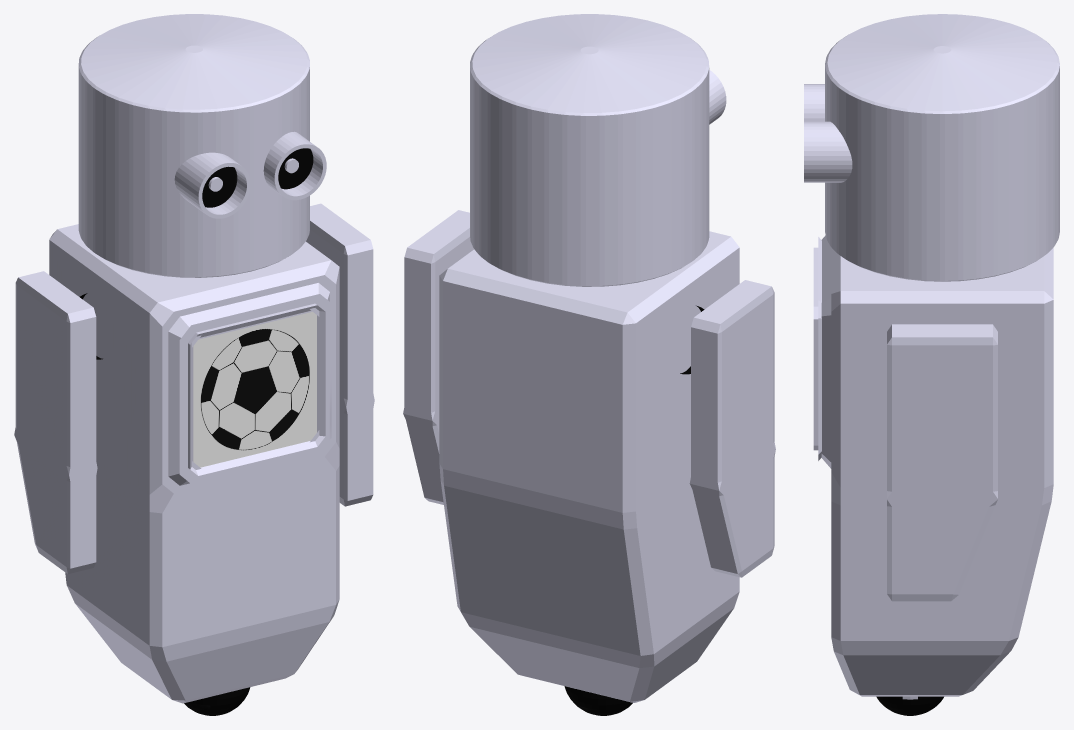
The model's file is Soccer_Robot_Team_2.glb.
3 views of the same model, side by side, from view 1: azimuth 30°, elevation 25°; view 2: azimuth 150°, elevation 25°; view 3: azimuth 270°, elevation 25° (orthographic). The views are drawn at different scales.
Parts seen in each view (by area): view 1: Cube.001, Plane; view 2: Cube.001; view 3: Cube.001.
Boxes of the visible parts, bbox=[...] form: Cube.001: bbox=[14, 14, 374, 715]; Plane: bbox=[193, 311, 316, 467]; Cube.001: bbox=[403, 14, 775, 715]; Cube.001: bbox=[804, 14, 1059, 715].
Bounding box in the file's own units: 3.22 × 6.56 × 2.3.
Materials: 2 (2 with a texture image).
